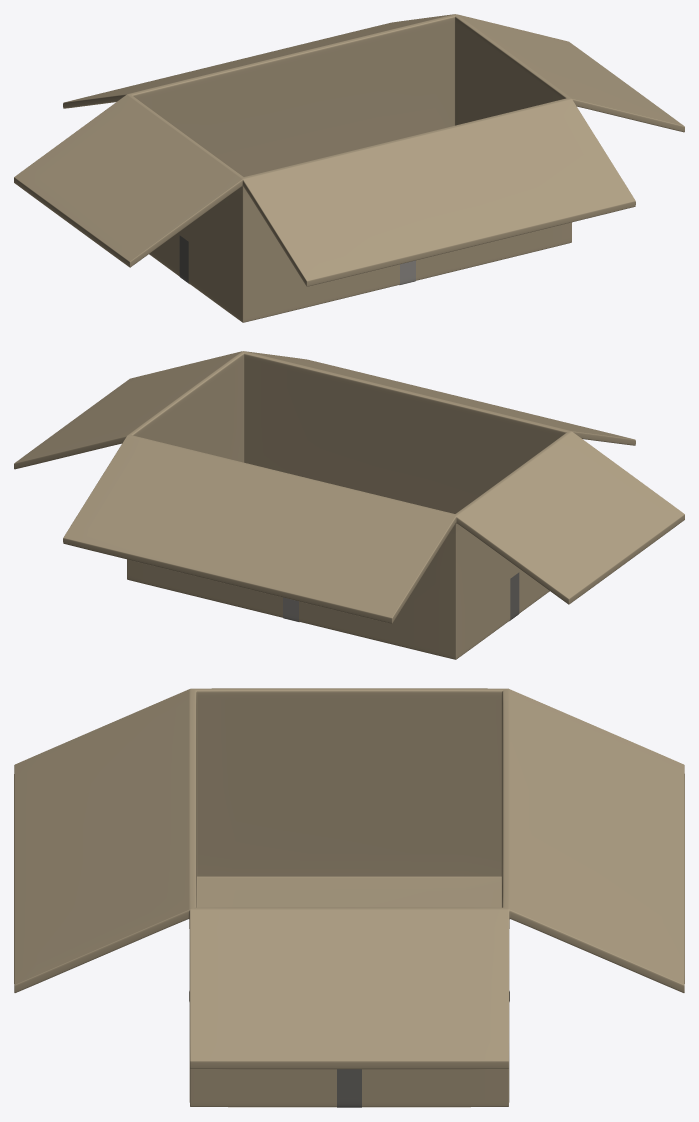
The model's file is Prop_Box_01.fbx.
3 renders of one model, top to bottom at view 1: azimuth 30°, elevation 25°; view 2: azimuth 150°, elevation 25°; view 3: azimuth 270°, elevation 25°, orthographic. The views are drawn at different scales.
Visible parts, largest first — view 1: Caixa_MEsh; view 2: Caixa_MEsh; view 3: Caixa_MEsh.
Boxes of the visible parts, left/top/right/bottom form: Caixa_MEsh: left=14, top=14, right=684, bottom=322; Caixa_MEsh: left=14, top=351, right=684, bottom=659; Caixa_MEsh: left=14, top=688, right=684, bottom=1107.
Bounding box in the file's own units: 3.37 × 0.8389 × 2.56.
